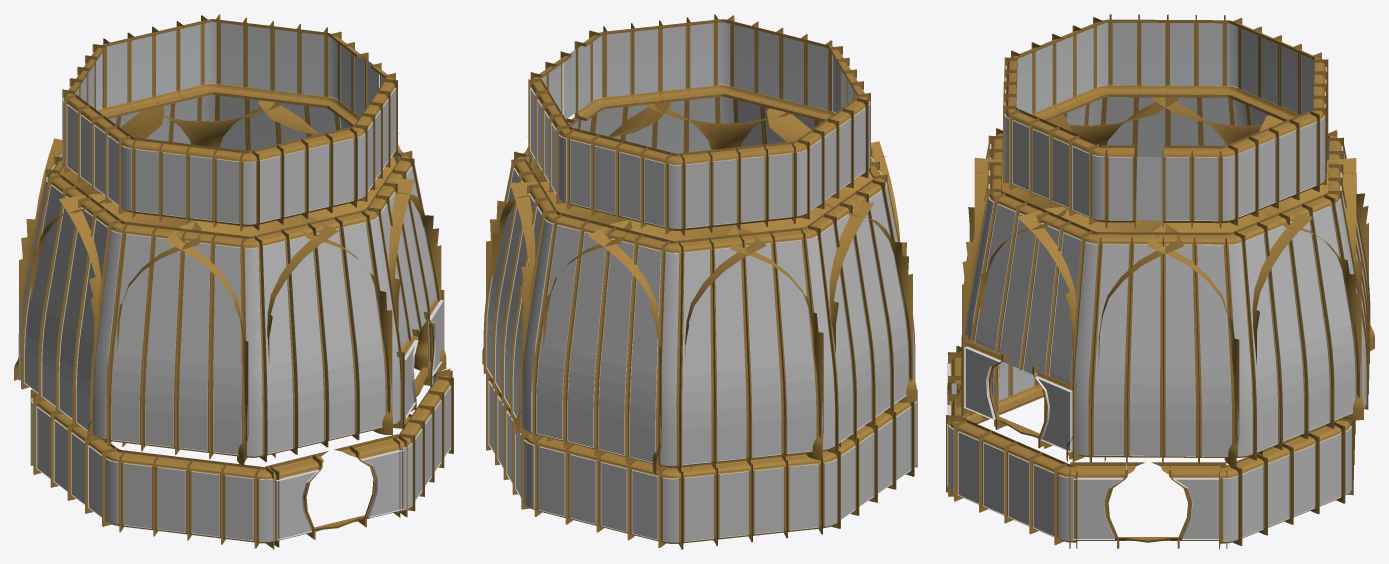
Rendered from TowerInterior4.fbx.
3 renders of one model, left to right at view 1: azimuth 30°, elevation 25°; view 2: azimuth 150°, elevation 25°; view 3: azimuth 270°, elevation 25°, orthographic. The views are drawn at different scales.
Parts seen in each view (by area): view 1: Cube.042; view 2: Cube.042; view 3: Cube.042.
Boxes of the visible parts, x1,y1,x2,y2 form: Cube.042: (14, 14, 453, 549); Cube.042: (482, 14, 917, 549); Cube.042: (946, 14, 1374, 549).
Size of the model in its own units: 9317 by 9282 by 9514.
